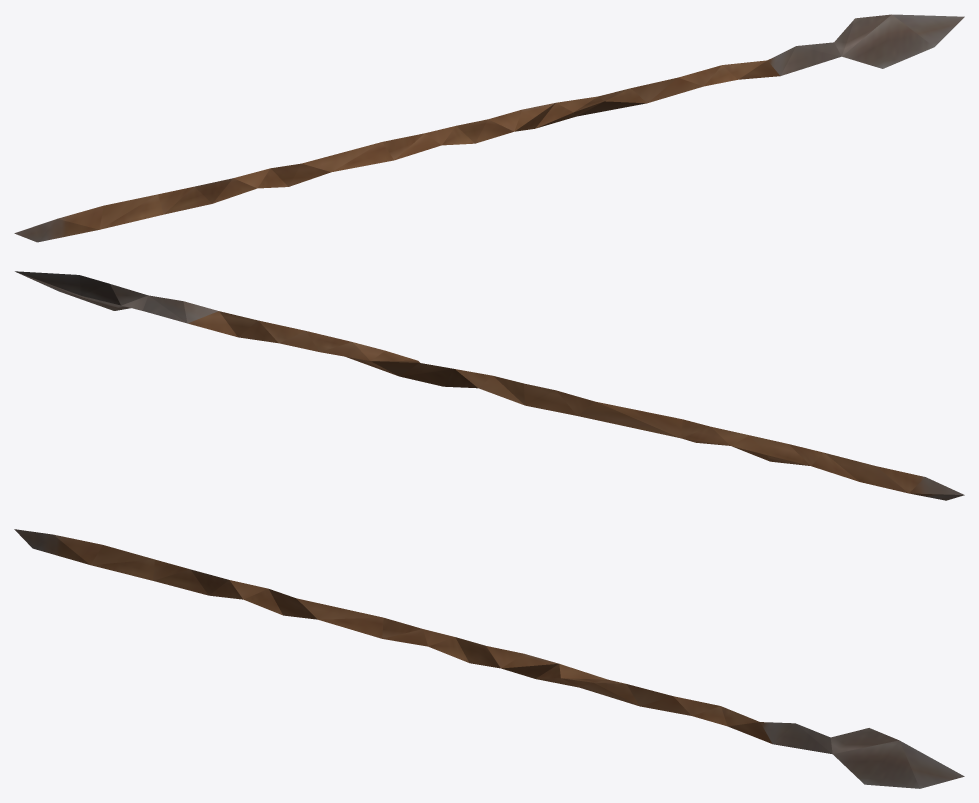
The model's file is prop_spear.glb.
The picture shows the model from 3 angles, top to bottom: view 1: azimuth 30°, elevation 25°; view 2: azimuth 150°, elevation 25°; view 3: azimuth 330°, elevation 25°; orthographic projection.
Parts seen in each view (by area): view 1: lp.obj; view 2: lp.obj; view 3: lp.obj.
Boxes of the visible parts, x1=… form: lp.obj: x1=14, y1=14, x2=964, y2=242; lp.obj: x1=15, y1=271, x2=964, y2=500; lp.obj: x1=14, y1=529, x2=964, y2=788.
Bounding box in the file's own units: 1.94 × 0.0824 × 0.0613.
Materials: 1 (1 with a texture image).
